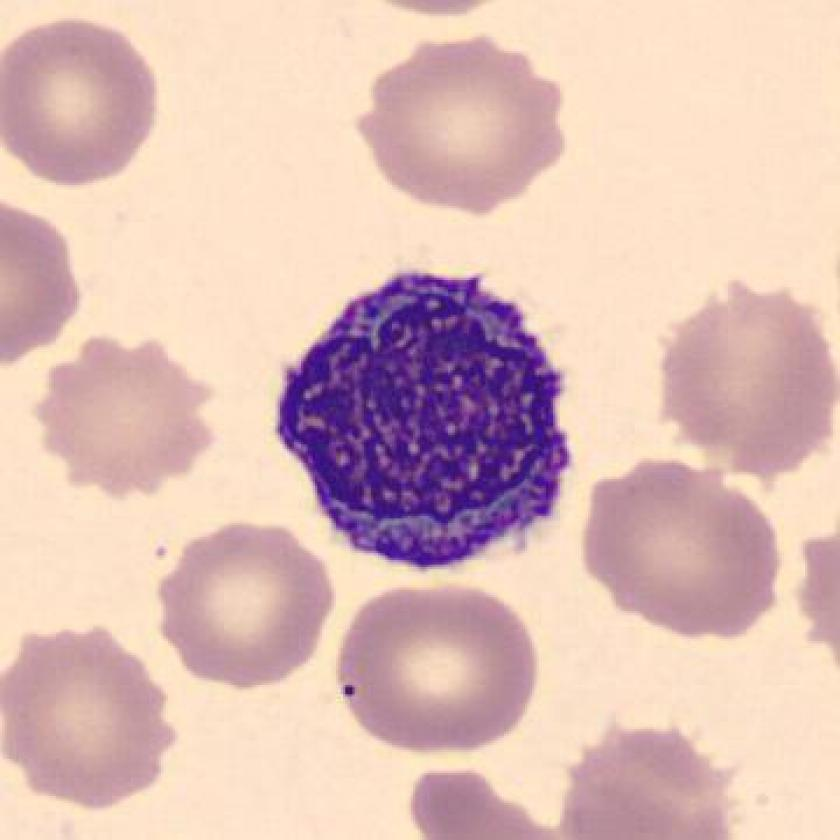monocyte: (255, 251, 594, 586)
